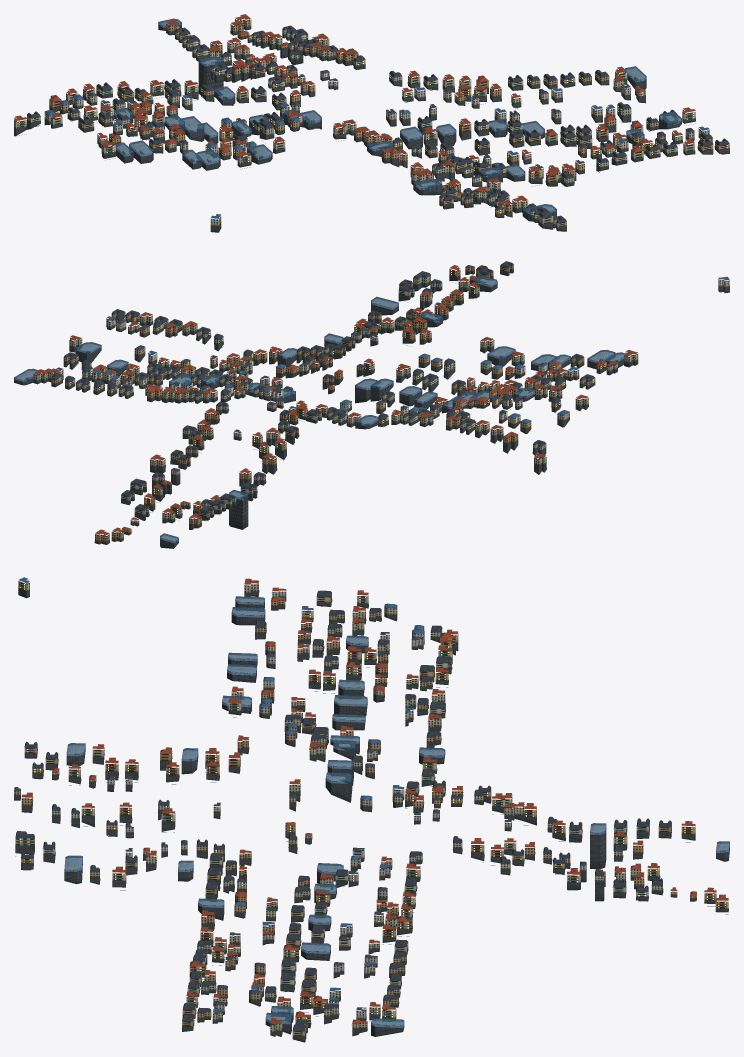
File: osm_buildings_T_W02_S02_Q2.glb
The picture shows the model from 3 angles, top to bottom: view 1: azimuth 30°, elevation 25°; view 2: azimuth 150°, elevation 25°; view 3: azimuth 270°, elevation 25°; orthographic projection. The views are drawn at different scales.
Visible parts, largest first — view 1: OSM_T_W02_S02_Q2_foundation, OSM_T_W02_S02_Q2_wall_cream_stucco, OSM_T_W02_S02_Q2_wall_french_ochre, OSM_T_W02_S02_Q2_roof_terracotta, OSM_T_W02_S02_Q2_greenhouse_blend, OSM_T_W02_S02_Q2_roof_mansard_slate, OSM_T_W02_S02_Q2_roof_mansard_deck, OSM_T_W02_S02_Q2_trim_cornice, OSM_T_W02_S02_Q2_roof_mint_metal, OSM_T_W02_S02_Q2_wall_warm_white, OSM_T_W02_S02_Q2_window_emissive_warm, OSM_T_W02_S02_Q2_balcony_railing (+3 smaller); view 2: OSM_T_W02_S02_Q2_foundation, OSM_T_W02_S02_Q2_wall_cream_stucco, OSM_T_W02_S02_Q2_wall_french_ochre, OSM_T_W02_S02_Q2_roof_mansard_slate, OSM_T_W02_S02_Q2_roof_terracotta, OSM_T_W02_S02_Q2_greenhouse_blend, OSM_T_W02_S02_Q2_roof_mansard_deck, OSM_T_W02_S02_Q2_roof_mint_metal, OSM_T_W02_S02_Q2_wall_warm_white, OSM_T_W02_S02_Q2_window_emissive_warm, OSM_T_W02_S02_Q2_roof_alpine_blue, OSM_T_W02_S02_Q2_trim_cornice (+2 smaller); view 3: OSM_T_W02_S02_Q2_foundation, OSM_T_W02_S02_Q2_wall_cream_stucco, OSM_T_W02_S02_Q2_wall_french_ochre, OSM_T_W02_S02_Q2_roof_mansard_slate, OSM_T_W02_S02_Q2_greenhouse_blend, OSM_T_W02_S02_Q2_roof_terracotta, OSM_T_W02_S02_Q2_roof_mansard_deck, OSM_T_W02_S02_Q2_trim_cornice, OSM_T_W02_S02_Q2_balcony_railing, OSM_T_W02_S02_Q2_wall_warm_white, OSM_T_W02_S02_Q2_roof_mint_metal, OSM_T_W02_S02_Q2_roof_alpine_blue (+2 smaller).
Part boxes in pixels (left/top/right/bottom): OSM_T_W02_S02_Q2_foundation: left=14, top=24, right=729, bottom=232; OSM_T_W02_S02_Q2_wall_cream_stucco: left=14, top=29, right=709, bottom=224; OSM_T_W02_S02_Q2_wall_french_ochre: left=49, top=19, right=729, bottom=227; OSM_T_W02_S02_Q2_roof_terracotta: left=14, top=14, right=695, bottom=210; OSM_T_W02_S02_Q2_greenhouse_blend: left=114, top=18, right=681, bottom=216; OSM_T_W02_S02_Q2_roof_mansard_slate: left=27, top=26, right=729, bottom=222; OSM_T_W02_S02_Q2_roof_mansard_deck: left=29, top=22, right=727, bottom=220; OSM_T_W02_S02_Q2_trim_cornice: left=15, top=19, right=718, bottom=225; OSM_T_W02_S02_Q2_roof_mint_metal: left=14, top=26, right=729, bottom=227; OSM_T_W02_S02_Q2_wall_warm_white: left=97, top=36, right=694, bottom=225; OSM_T_W02_S02_Q2_window_emissive_warm: left=18, top=23, right=727, bottom=215; OSM_T_W02_S02_Q2_balcony_railing: left=18, top=19, right=727, bottom=216; OSM_T_W02_S02_Q2_foundation: left=14, top=269, right=729, bottom=548; OSM_T_W02_S02_Q2_wall_cream_stucco: left=33, top=275, right=638, bottom=519; OSM_T_W02_S02_Q2_wall_french_ochre: left=51, top=264, right=606, bottom=542; OSM_T_W02_S02_Q2_roof_mansard_slate: left=52, top=262, right=594, bottom=513; OSM_T_W02_S02_Q2_roof_terracotta: left=34, top=265, right=637, bottom=535; OSM_T_W02_S02_Q2_greenhouse_blend: left=14, top=275, right=625, bottom=543; OSM_T_W02_S02_Q2_roof_mansard_deck: left=22, top=261, right=621, bottom=541; OSM_T_W02_S02_Q2_roof_mint_metal: left=33, top=269, right=636, bottom=542; OSM_T_W02_S02_Q2_wall_warm_white: left=91, top=279, right=729, bottom=523; OSM_T_W02_S02_Q2_window_emissive_warm: left=21, top=270, right=621, bottom=539; OSM_T_W02_S02_Q2_roof_alpine_blue: left=92, top=276, right=729, bottom=422; OSM_T_W02_S02_Q2_trim_cornice: left=36, top=265, right=729, bottom=539; OSM_T_W02_S02_Q2_foundation: left=14, top=588, right=729, bottom=1042; OSM_T_W02_S02_Q2_wall_cream_stucco: left=15, top=583, right=662, bottom=1032; OSM_T_W02_S02_Q2_wall_french_ochre: left=14, top=594, right=728, bottom=1035; OSM_T_W02_S02_Q2_roof_mansard_slate: left=14, top=591, right=671, bottom=1031; OSM_T_W02_S02_Q2_greenhouse_blend: left=64, top=596, right=729, bottom=1027; OSM_T_W02_S02_Q2_roof_terracotta: left=21, top=578, right=728, bottom=1023; OSM_T_W02_S02_Q2_roof_mansard_deck: left=17, top=590, right=725, bottom=1028; OSM_T_W02_S02_Q2_trim_cornice: left=15, top=581, right=728, bottom=1040; OSM_T_W02_S02_Q2_balcony_railing: left=18, top=585, right=726, bottom=1028; OSM_T_W02_S02_Q2_wall_warm_white: left=18, top=580, right=677, bottom=1011; OSM_T_W02_S02_Q2_roof_mint_metal: left=15, top=593, right=726, bottom=1036; OSM_T_W02_S02_Q2_roof_alpine_blue: left=19, top=577, right=424, bottom=1012.
Size of the model in its own units: 949 by 222 by 905.
16 materials, 16 textured.
